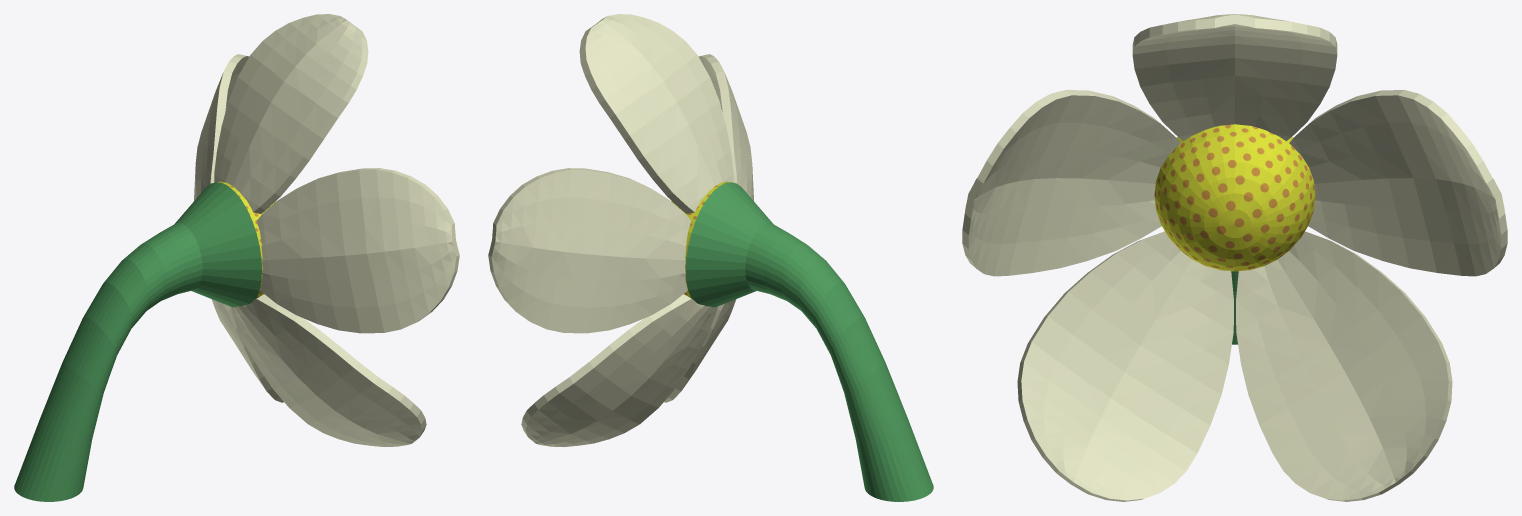
The model's file is LaserEmitter.obj.
3 views of the same model, side by side, from view 1: azimuth 30°, elevation 25°; view 2: azimuth 150°, elevation 25°; view 3: azimuth 270°, elevation 25° (orthographic). The views are drawn at different scales.
Parts seen in each view (by area): view 1: FlowerLaser_Petal, FlowerLaser_Body; view 2: FlowerLaser_Petal, FlowerLaser_Body; view 3: FlowerLaser_Petal, FlowerLaser_Body.
Part boxes in pixels (<box>): FlowerLaser_Petal: <box>194,14,459,446</box>; FlowerLaser_Body: <box>14,181,276,501</box>; FlowerLaser_Petal: <box>488,14,753,446</box>; FlowerLaser_Body: <box>671,181,933,501</box>; FlowerLaser_Petal: <box>962,14,1507,501</box>; FlowerLaser_Body: <box>1154,124,1315,344</box>.
Bounding box in the file's own units: 0.8901 × 1 × 1.
2 materials, 2 textured.
